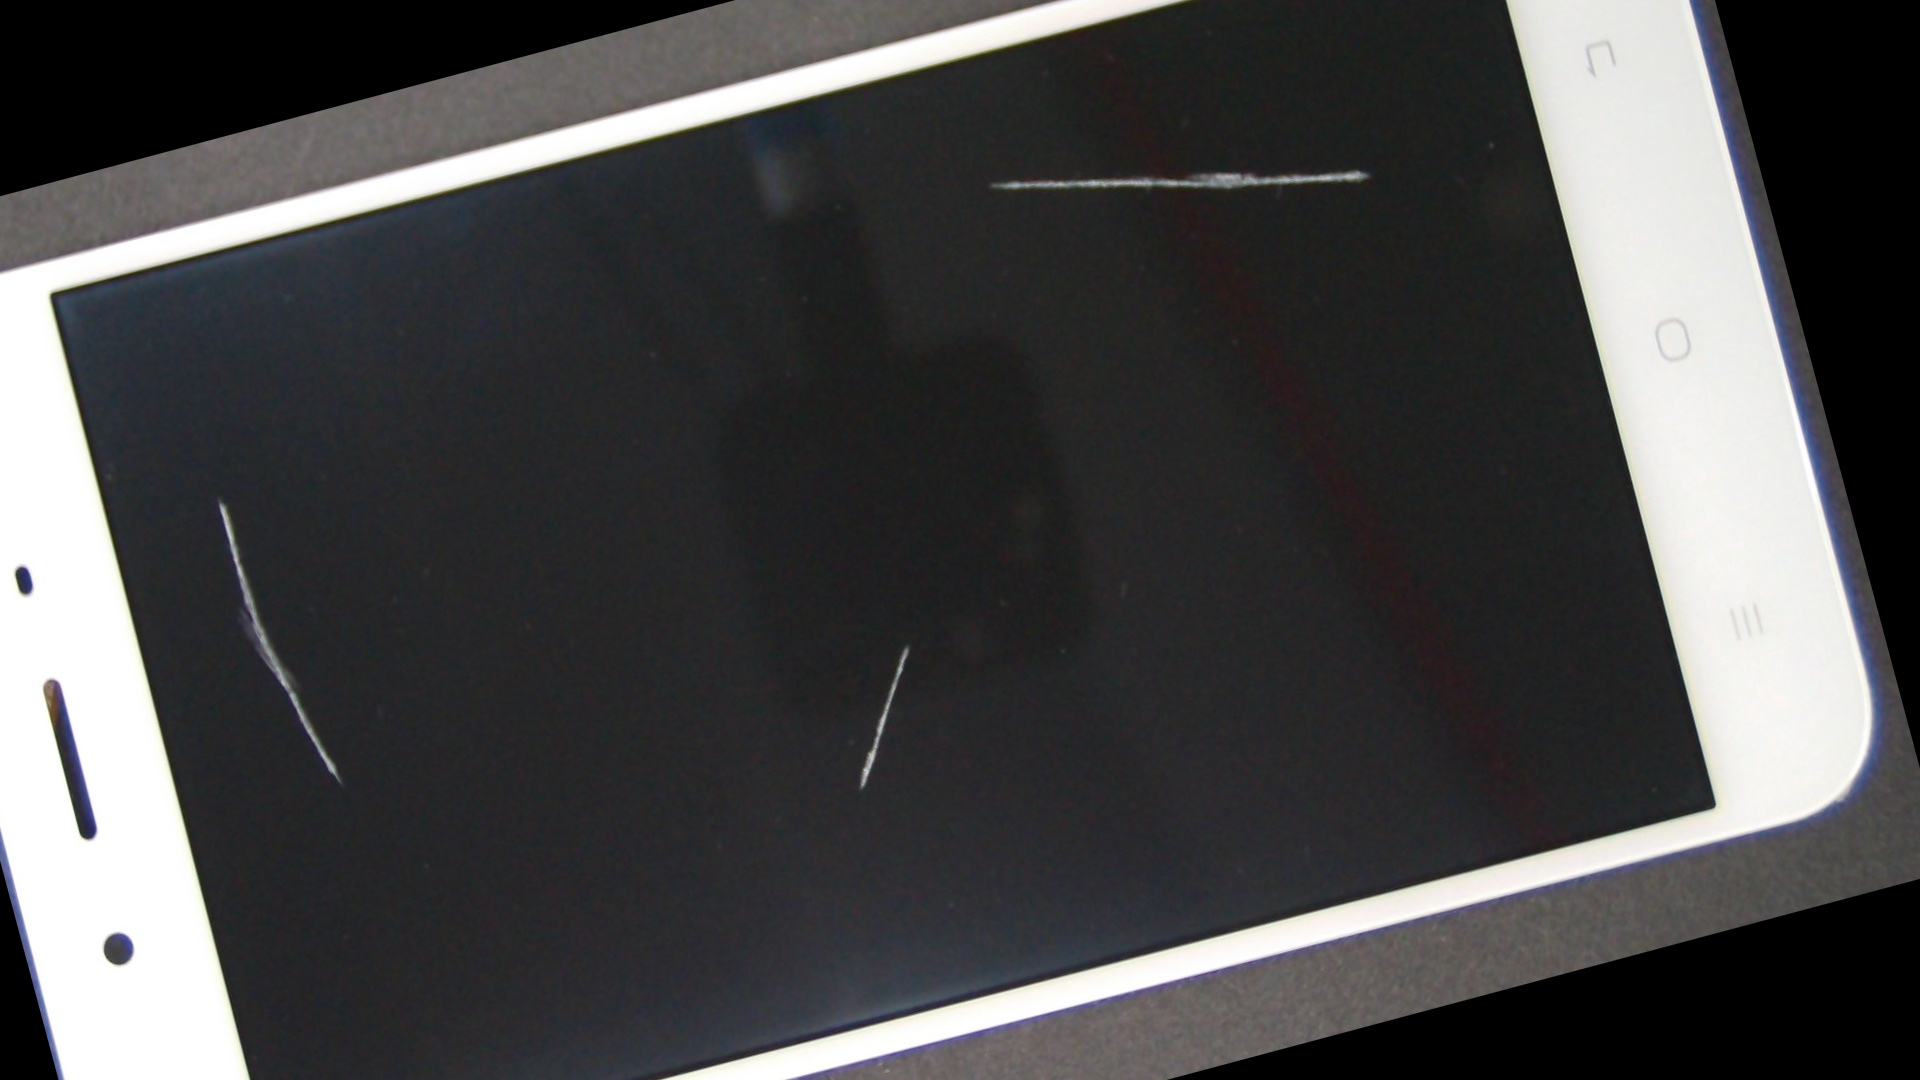oil: (373, 199, 1439, 1080), (411, 0, 1565, 446), (28, 290, 409, 708)
